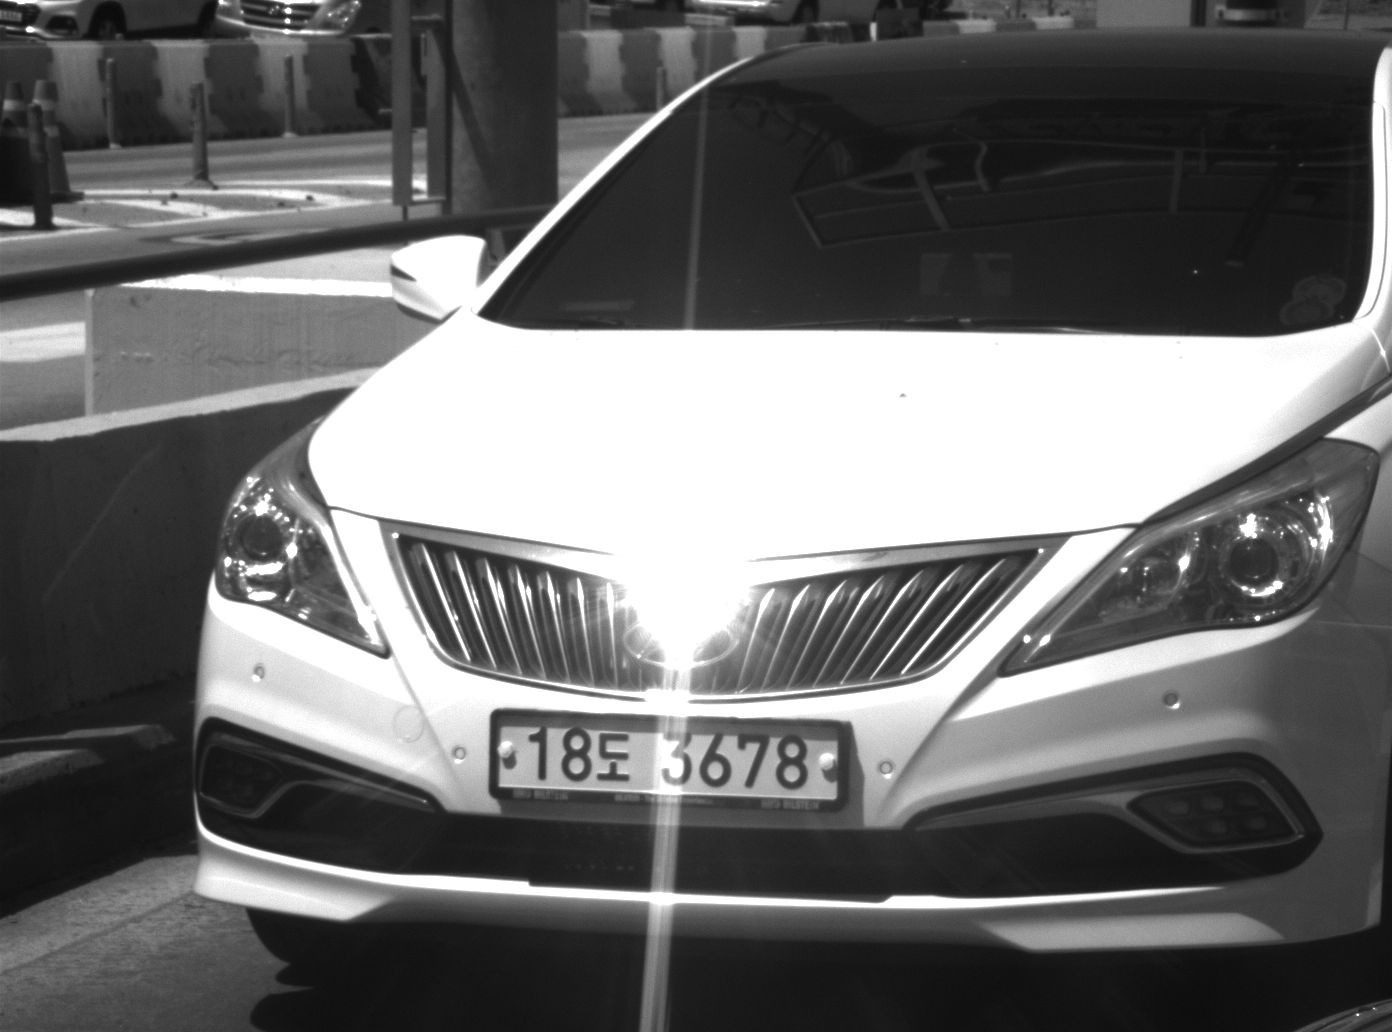car: (190, 26, 1390, 998)
plate: (487, 706, 851, 813)
